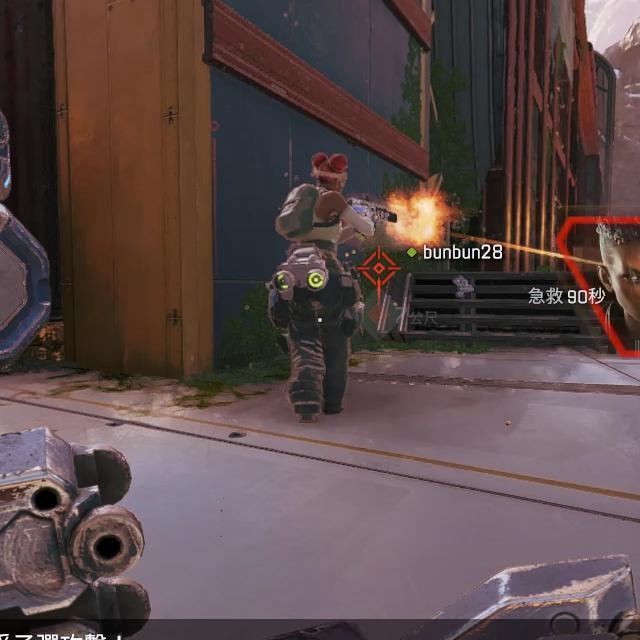avatar: (264, 152, 376, 422)
object: (385, 191, 448, 248)
